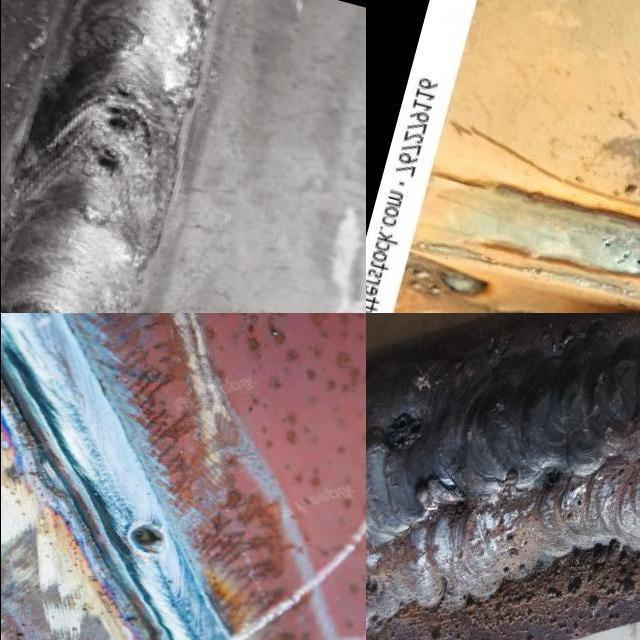defect: (92, 78, 158, 140), (78, 139, 135, 180), (381, 411, 427, 460), (599, 232, 640, 267), (121, 519, 164, 552), (545, 467, 562, 491)
